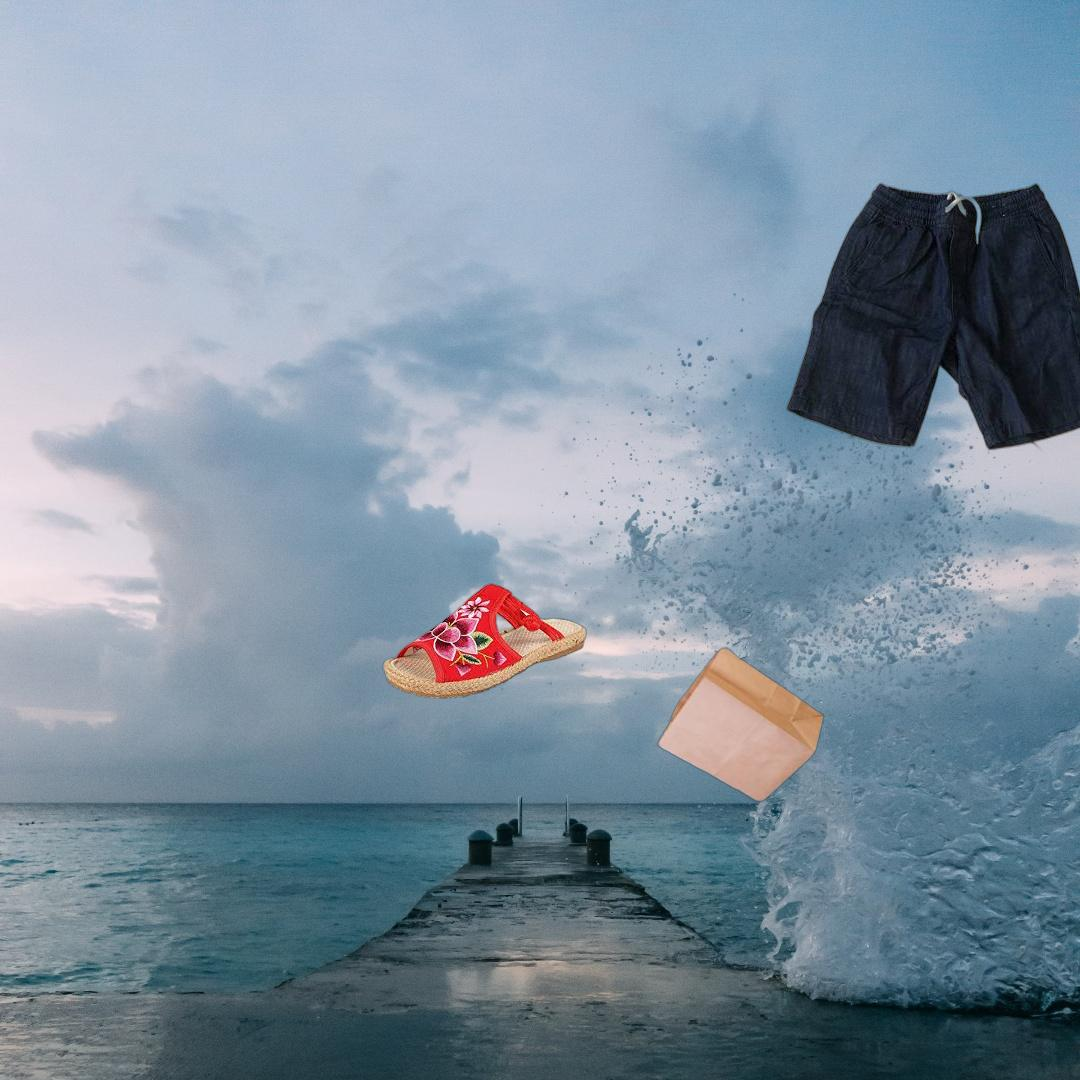battery: (1079, 335, 1080, 479)
clothes: (763, 178, 1080, 530)
paper-bag: (654, 645, 825, 804)
shoes: (380, 581, 590, 702)
